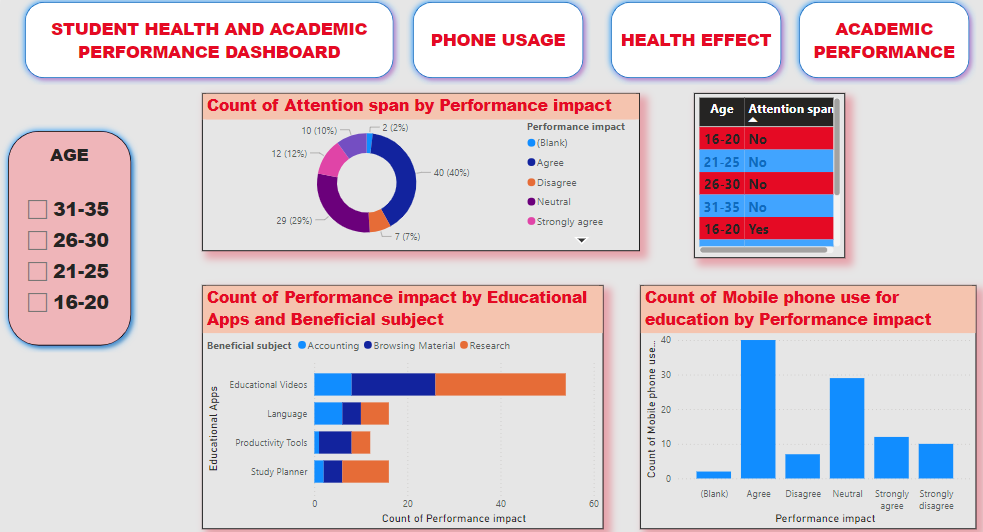

The dashboard page shown, as its layout file describes it:
{"tool":"powerbi","page":{"name":"ACADEMIC PERFORMANCE","canvas":[1280,720],"ordinal":3},"visuals":[{"type":"shape","box":[0,166.3,177,295],"z":0,"group":"g1"},{"type":"tableEx","fields":{"Values":["Impact_of_Mobile_Phone_on_Student.Age","Impact_of_Mobile_Phone_on_Student.Attention span"]},"box":[893.9,126.9,194.9,212.7],"z":0},{"type":"slicer","fields":{"Values":["Impact_of_Mobile_Phone_on_Student.Age"]},"box":[21.5,251.8,139.4,180.6],"z":1000,"group":"g1"},{"type":"donutChart","fields":{"Category":["Impact_of_Mobile_Phone_on_Student.Performance impact"],"Y":["CountNonNull(Impact_of_Mobile_Phone_on_Student.Attention span)"]},"box":[259.2,126.9,564.9,203.8],"z":1000},{"type":"textbox","box":[34,186,109.1,66.1],"z":2000,"group":"g1"},{"type":"columnChart","fields":{"Y":["CountNonNull(Impact_of_Mobile_Phone_on_Student.Mobile phone use for education)"],"Category":["Impact_of_Mobile_Phone_on_Student.Performance impact"]},"box":[824.1,373.6,434.4,314.6],"z":2000},{"type":"barChart","fields":{"Y":["CountNonNull(Impact_of_Mobile_Phone_on_Student.Performance impact)"],"Category":["Impact_of_Mobile_Phone_on_Student.Educational Apps"],"Series":["Impact_of_Mobile_Phone_on_Student.Beneficial subject"]},"box":[259.2,373.6,518.4,314.6],"z":3000},{"type":"group","id":"g1","title":"Group 1","box":[0,166.3,177,295],"z":4000},{"type":"shape","box":[21.5,0,493.4,116.2],"z":5000},{"type":"shape","box":[522,0,237.8,116.2],"z":6000},{"type":"shape","box":[777.7,0,237.8,116.2],"z":7000},{"type":"shape","box":[1020.8,0,237.8,116.2],"z":8000}]}

Visuals, with their boxes on the page's 1280x720 design canvas (x1, y1, x2, y2). These are canvas units, not pixel positions in the 983x532 screenshot, which may show the page scaled, cropped or inside an application window:
shape: (0, 166, 177, 461)
tableEx - Impact_of_Mobile_Phone_on_Student.Age x Impact_of_Mobile_Phone_on_Student.Attention span: (894, 127, 1089, 340)
slicer - Impact_of_Mobile_Phone_on_Student.Age: (22, 252, 161, 432)
donutChart - Impact_of_Mobile_Phone_on_Student.Performance impact x CountNonNull(Impact_of_Mobile_Phone_on_Student.Attention span): (259, 127, 824, 331)
textbox: (34, 186, 143, 252)
columnChart - CountNonNull(Impact_of_Mobile_Phone_on_Student.Mobile phone use for education) x Impact_of_Mobile_Phone_on_Student.Performance impact: (824, 374, 1258, 688)
barChart - CountNonNull(Impact_of_Mobile_Phone_on_Student.Performance impact) x Impact_of_Mobile_Phone_on_Student.Educational Apps: (259, 374, 778, 688)
"Group 1" group: (0, 166, 177, 461)
shape: (22, 0, 515, 116)
shape: (522, 0, 760, 116)
shape: (778, 0, 1016, 116)
shape: (1021, 0, 1259, 116)
